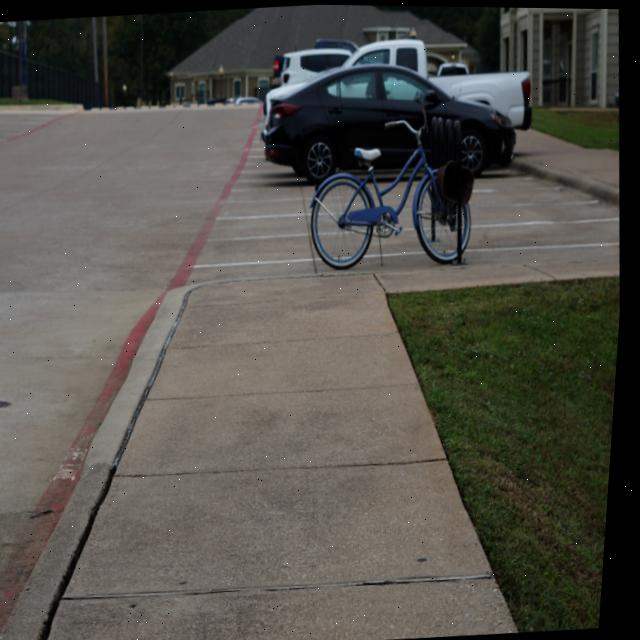Automobile: (262, 37, 532, 182)
Obstacle: (313, 101, 476, 267)
Road: (0, 102, 316, 640), (470, 168, 623, 258), (385, 194, 431, 264)
Sidewalk: (8, 243, 623, 640), (520, 128, 622, 188)
